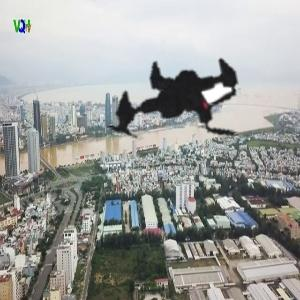drone: (75, 7, 285, 217)
